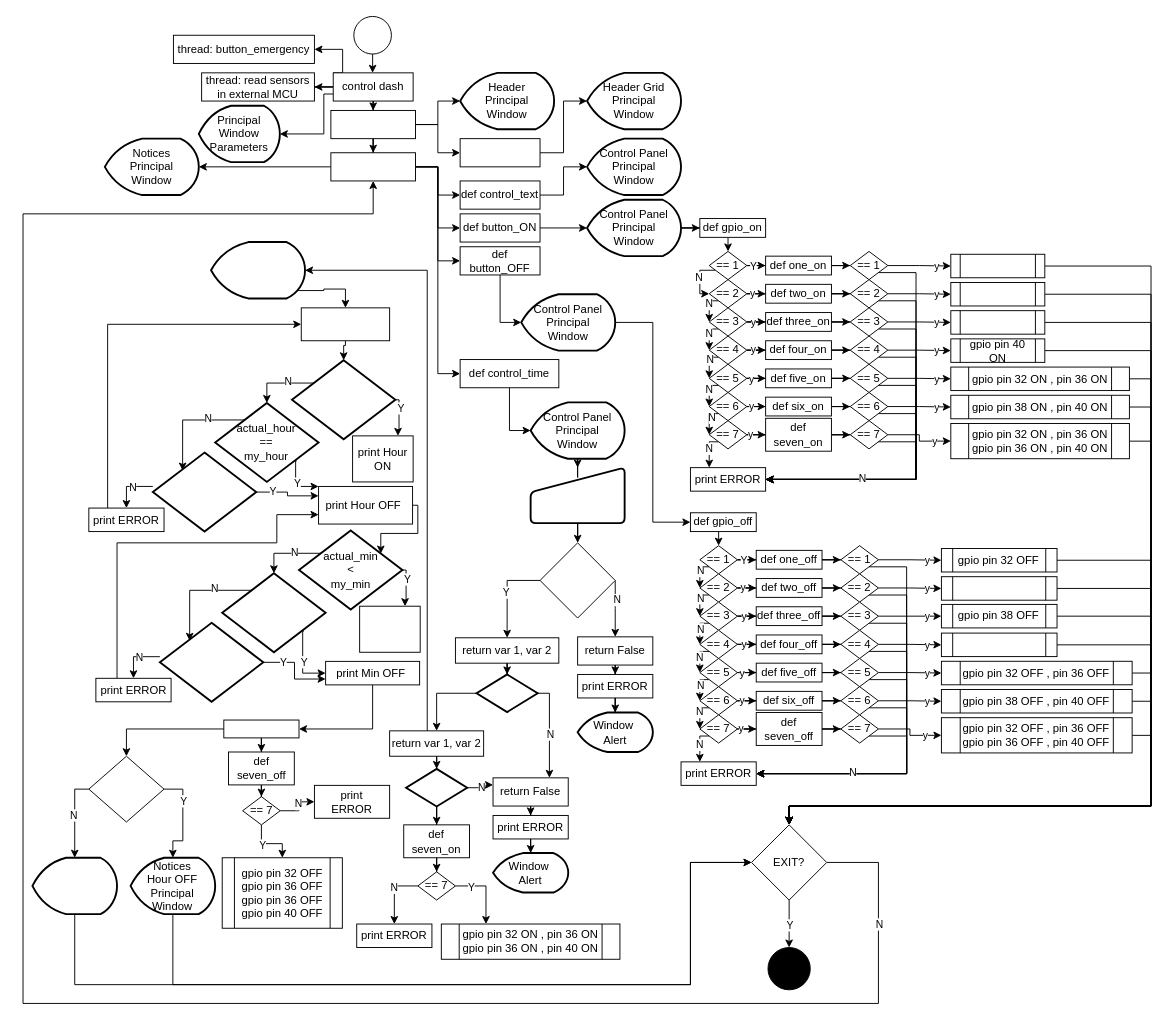
The diagram is 1175 pixels wide and 1027 high, and some of its shapes have lost their labels. The box of each missing label's shape, as (x1, y1, x2, y2) in pixels:
==int & int > 0: (539, 542, 615, 618)
actual_hour < my_hour: (291, 359, 396, 440)
actual_hour > my_hour: (151, 451, 257, 532)
actual_min == my_min: (221, 572, 326, 653)
actual_min > my_min: (158, 621, 264, 702)
call == "now": (88, 755, 164, 822)
def header_grid: (459, 138, 540, 167)
def my_body: (330, 152, 415, 181)
def my_header: (330, 110, 415, 139)
END: (767, 947, 810, 990)
gpio pin 32 ON: (950, 253, 1045, 278)
gpio pin 36 OFF: (940, 576, 1057, 600)
gpio pin 36 ON: (950, 282, 1045, 306)
gpio pin 38 ON: (950, 310, 1045, 334)
gpio pin 40 OFF: (940, 632, 1057, 657)
INIT: (353, 16, 391, 54)
Machine ONE: (300, 307, 390, 341)
Notices ERROR Principal Window: (31, 856, 118, 915)
Notices HOUR ON Principal Window: (210, 241, 306, 299)
print Min ON: (359, 605, 420, 652)
var # <= 23: (475, 673, 538, 713)
var # <= 59: (405, 768, 468, 807)
var 1, var 2: (529, 466, 625, 524)
var call: (223, 719, 299, 738)
